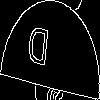D: (25, 25, 50, 77)
